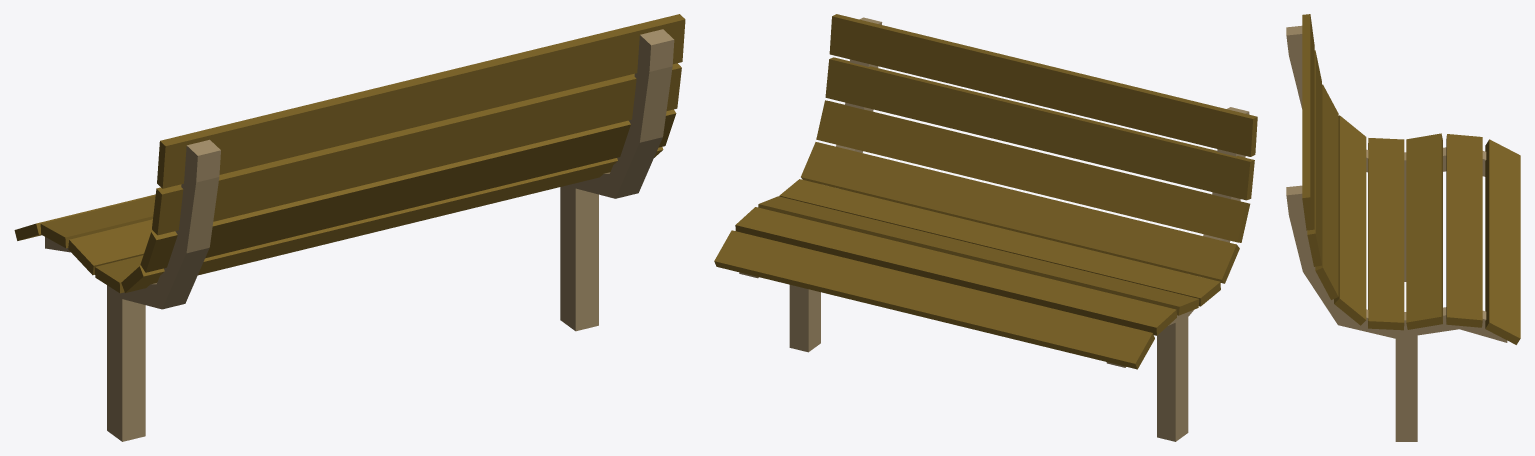
File: bank2.fbx
The picture shows the model from 3 angles, left to right: view 1: azimuth 30°, elevation 25°; view 2: azimuth 150°, elevation 25°; view 3: azimuth 270°, elevation 25°; orthographic projection. The views are drawn at different scales.
Parts seen in each view (by area): view 1: polySurface8; view 2: polySurface8; view 3: polySurface8.
Boxes of the visible parts, x1,y1,x2,y2 form: polySurface8: (14, 14, 685, 441); polySurface8: (714, 14, 1257, 441); polySurface8: (1286, 14, 1520, 441).
Size of the model in its own units: 8.17 by 5.25 by 4.41.
